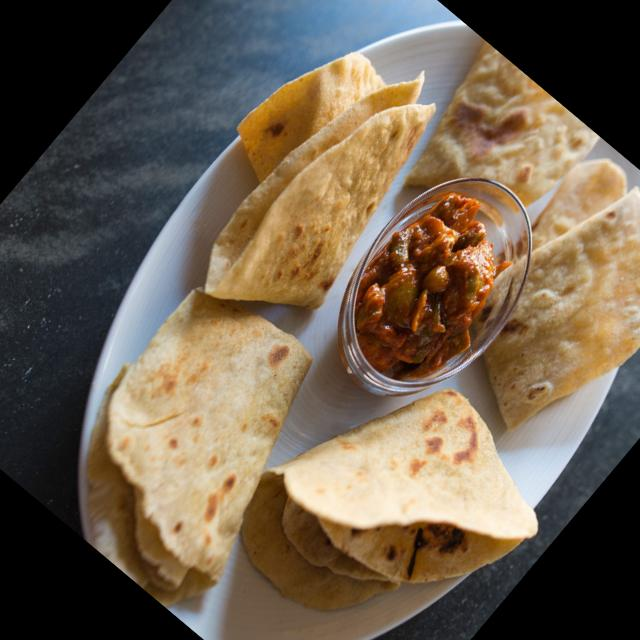roti: (91, 292, 313, 603), (240, 387, 537, 607), (205, 48, 438, 305), (476, 160, 640, 435), (406, 41, 600, 208)
